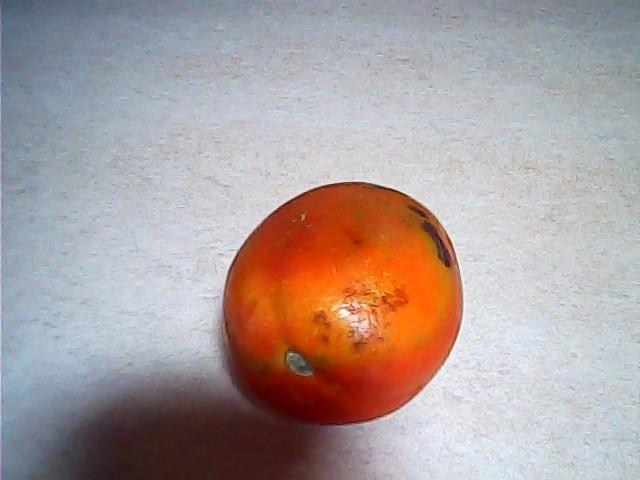defectuoso: (221, 181, 462, 427)
